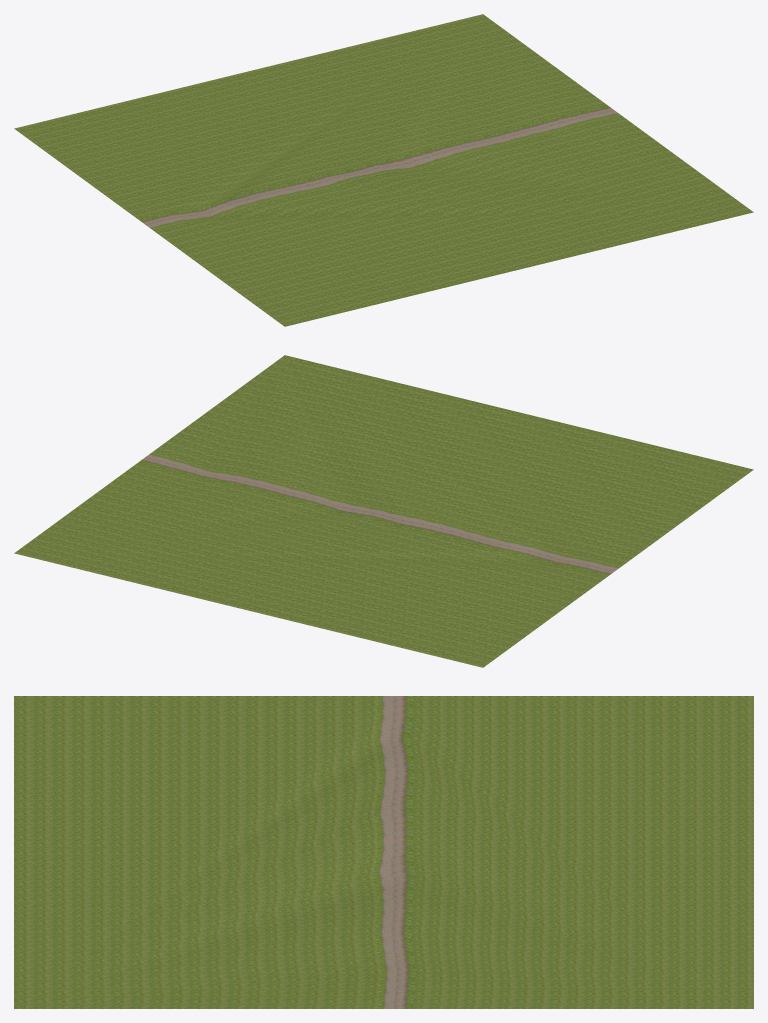
The model's file is road1.FBX.
3 views of the same model, one above another, from view 1: azimuth 30°, elevation 25°; view 2: azimuth 150°, elevation 25°; view 3: azimuth 270°, elevation 25° (orthographic). The views are drawn at different scales.
Visible parts, largest first — view 1: Plane001; view 2: Plane001; view 3: Plane001.
Boxes of the visible parts, <box> form: Plane001: <box>14,14,753,326</box>; Plane001: <box>14,355,753,667</box>; Plane001: <box>14,696,753,1008</box>.
Bounding box in the file's own units: 12000 × 91.3 × 12000.
